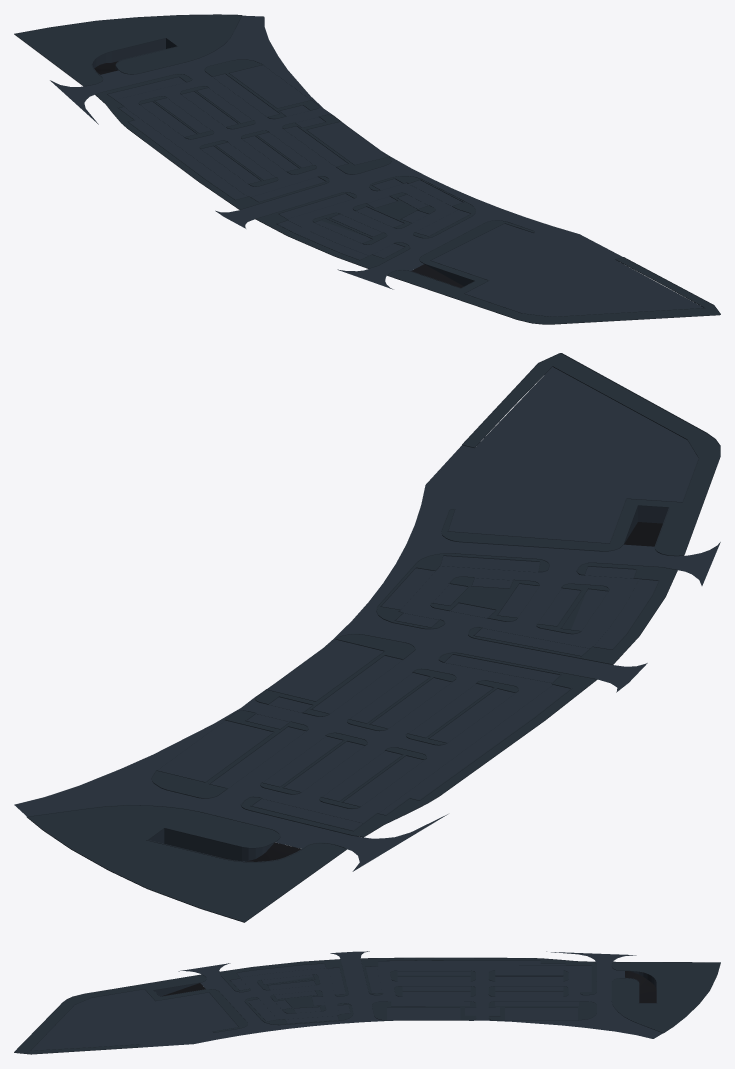
File: TCC.gltf
3 views of the same model, one above another, from view 1: azimuth 30°, elevation 25°; view 2: azimuth 150°, elevation 25°; view 3: azimuth 270°, elevation 25° (orthographic). The views are drawn at different scales.
Parts seen in each view (by area): view 1: Line328, object 3, Line322, Line031, Line294; view 2: Line328, object 3, Line322, Line031, Line294; view 3: Line328, object 3, Line322, Line294, object 5, Line293, Line031, Line308, Line307.
Boxes of the visible parts, bbox=[...] form: Line328: bbox=[50, 15, 703, 316]; object 3: bbox=[16, 15, 719, 323]; Line322: bbox=[14, 14, 720, 324]; Line031: bbox=[92, 38, 473, 286]; Line294: bbox=[140, 87, 313, 183]; Line328: bbox=[14, 367, 720, 871]; object 3: bbox=[28, 353, 719, 921]; Line322: bbox=[26, 353, 720, 922]; Line031: bbox=[149, 506, 668, 861]; Line294: bbox=[262, 672, 515, 806]; Line328: bbox=[31, 951, 662, 1050]; object 3: bbox=[15, 958, 719, 1053]; Line322: bbox=[14, 957, 720, 1054]; Line294: bbox=[398, 970, 562, 996]; object 5: bbox=[625, 971, 656, 1002]; Line293: bbox=[387, 1001, 578, 1020]; Line031: bbox=[154, 971, 656, 996]; Line308: bbox=[240, 968, 339, 1019]; Line307: bbox=[378, 965, 580, 991].
Bounding box in the file's own units: 117 × 4.69 × 338.
3 materials, 3 textured.
